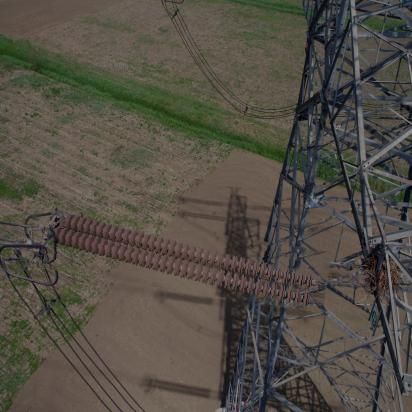insulator: (45, 220, 332, 304)
